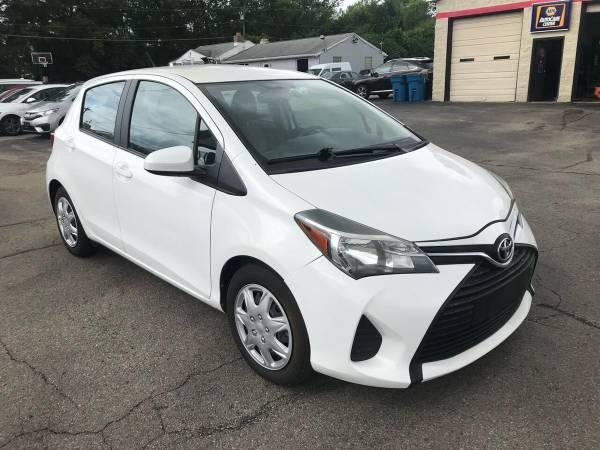Front_Bumper: (278, 197, 540, 385)
Front_Fender: (210, 151, 320, 309)
Front_Right_Door: (116, 145, 216, 305)
Front_Right_Window: (120, 77, 226, 189)
Front_Windshield: (203, 79, 434, 175)
Grille: (410, 245, 539, 383)
Hood: (271, 145, 511, 243)
Rear_Fender: (43, 92, 79, 190)
Rear_Right_Door: (65, 134, 119, 250)
Rear_Right_Window: (78, 76, 130, 146)
Right_Headlight: (294, 205, 439, 278)
Roof: (84, 66, 316, 180)
Wheel: (227, 272, 307, 385), (54, 194, 81, 255)
